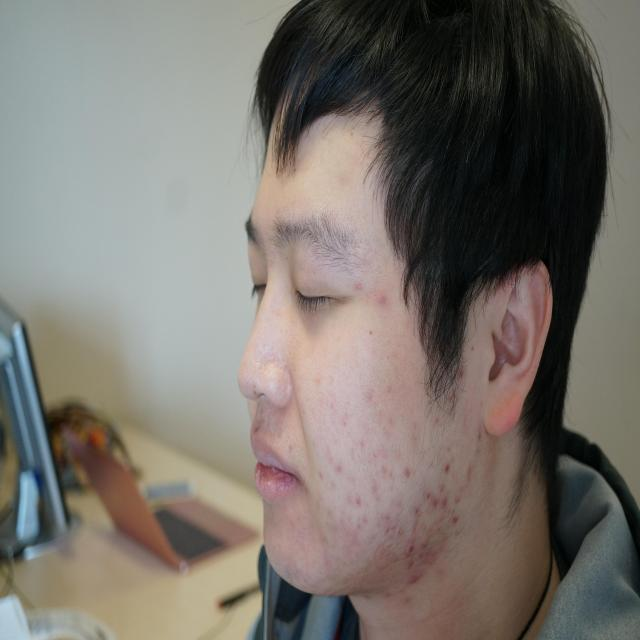papule: (371, 278, 395, 320), (346, 273, 371, 309), (408, 502, 431, 534), (374, 452, 396, 485), (434, 454, 458, 483), (426, 470, 441, 511), (406, 529, 422, 561), (435, 478, 452, 508), (419, 529, 437, 555), (380, 519, 398, 544), (347, 487, 367, 508), (459, 462, 478, 483), (397, 458, 410, 487), (329, 457, 343, 480), (356, 379, 367, 407), (370, 548, 387, 566), (447, 482, 460, 504), (408, 562, 419, 588), (444, 506, 458, 526), (336, 407, 350, 426), (369, 483, 382, 503), (356, 504, 366, 530), (401, 557, 414, 571), (380, 506, 388, 519)
